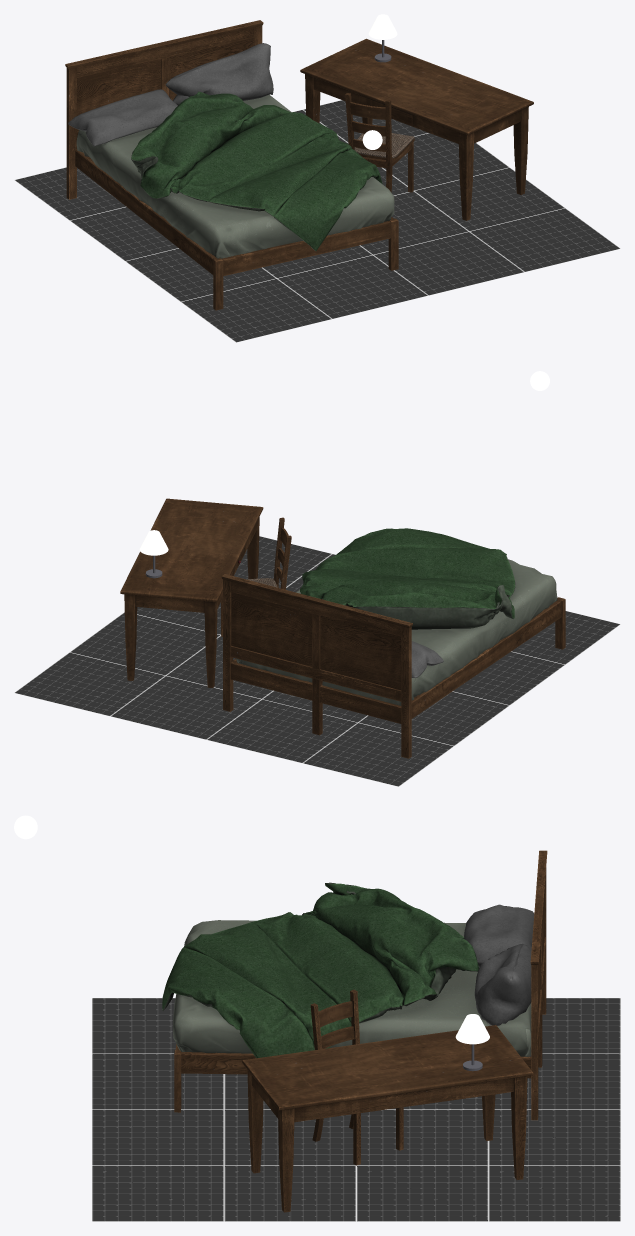
The model's file is bedroom_furniture_set_-_game_ready.glb.
3 renders of one model, top to bottom at view 1: azimuth 30°, elevation 25°; view 2: azimuth 150°, elevation 25°; view 3: azimuth 270°, elevation 25°, orthographic. The views are drawn at different scales.
Visible parts, largest first — view 1: SM_Bed_01, Plane, LampShade; view 2: SM_Bed_01, Plane; view 3: Plane, SM_Bed_01, LampShade.
Boxes of the visible parts, bbox=[...] form: SM_Bed_01: bbox=[65, 20, 533, 310]; Plane: bbox=[14, 100, 620, 342]; LampShade: bbox=[368, 14, 397, 39]; SM_Bed_01: bbox=[120, 498, 565, 758]; Plane: bbox=[14, 536, 620, 786]; Plane: bbox=[92, 998, 620, 1221]; SM_Bed_01: bbox=[162, 850, 547, 1212]; LampShade: bbox=[455, 1014, 489, 1044].
Size of the model in its own units: 4 by 2.04 by 4.59.
Materials: 6 (2 with a texture image).
